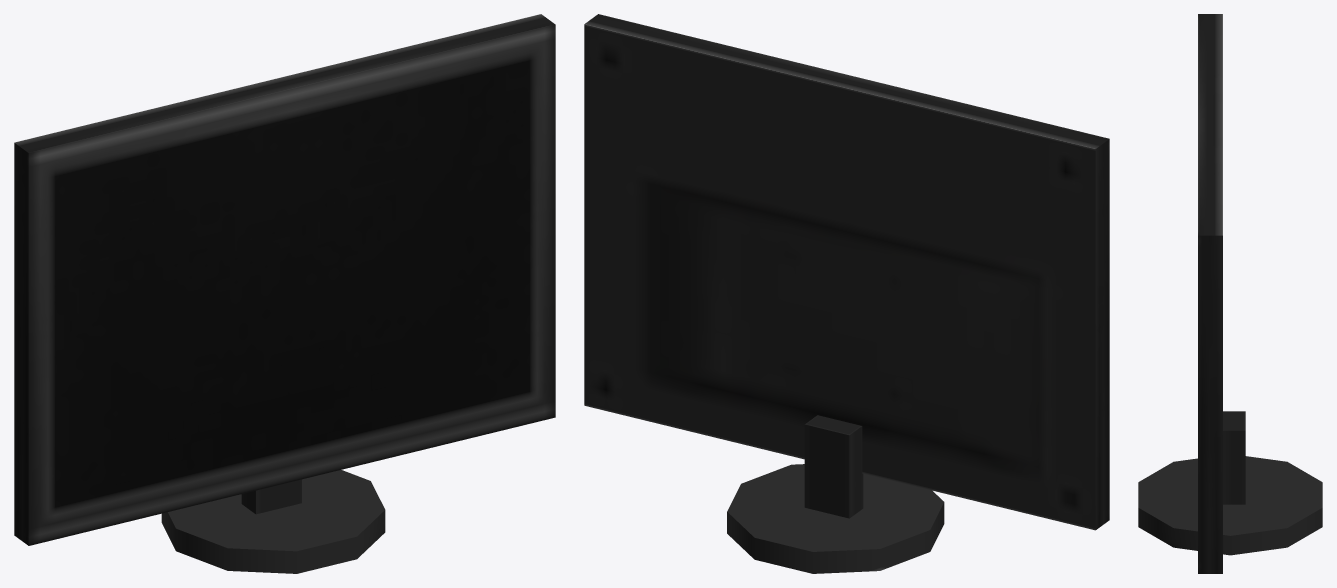
File: Computer_2.fbx
The picture shows the model from 3 angles, left to right: view 1: azimuth 30°, elevation 25°; view 2: azimuth 150°, elevation 25°; view 3: azimuth 270°, elevation 25°; orthographic projection. The views are drawn at different scales.
Visible parts, largest first — view 1: polySurface1521; view 2: polySurface1521; view 3: polySurface1521.
Part boxes in pixels (x1=…): polySurface1521: x1=14, y1=14, x2=555, y2=573; polySurface1521: x1=584, y1=14, x2=1109, y2=573; polySurface1521: x1=1138, y1=14, x2=1322, y2=573.
Bounding box in the file's own units: 0.73 × 0.5988 × 0.2568.
